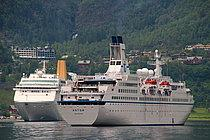Ship: (55, 28, 200, 130), (11, 58, 75, 124)
